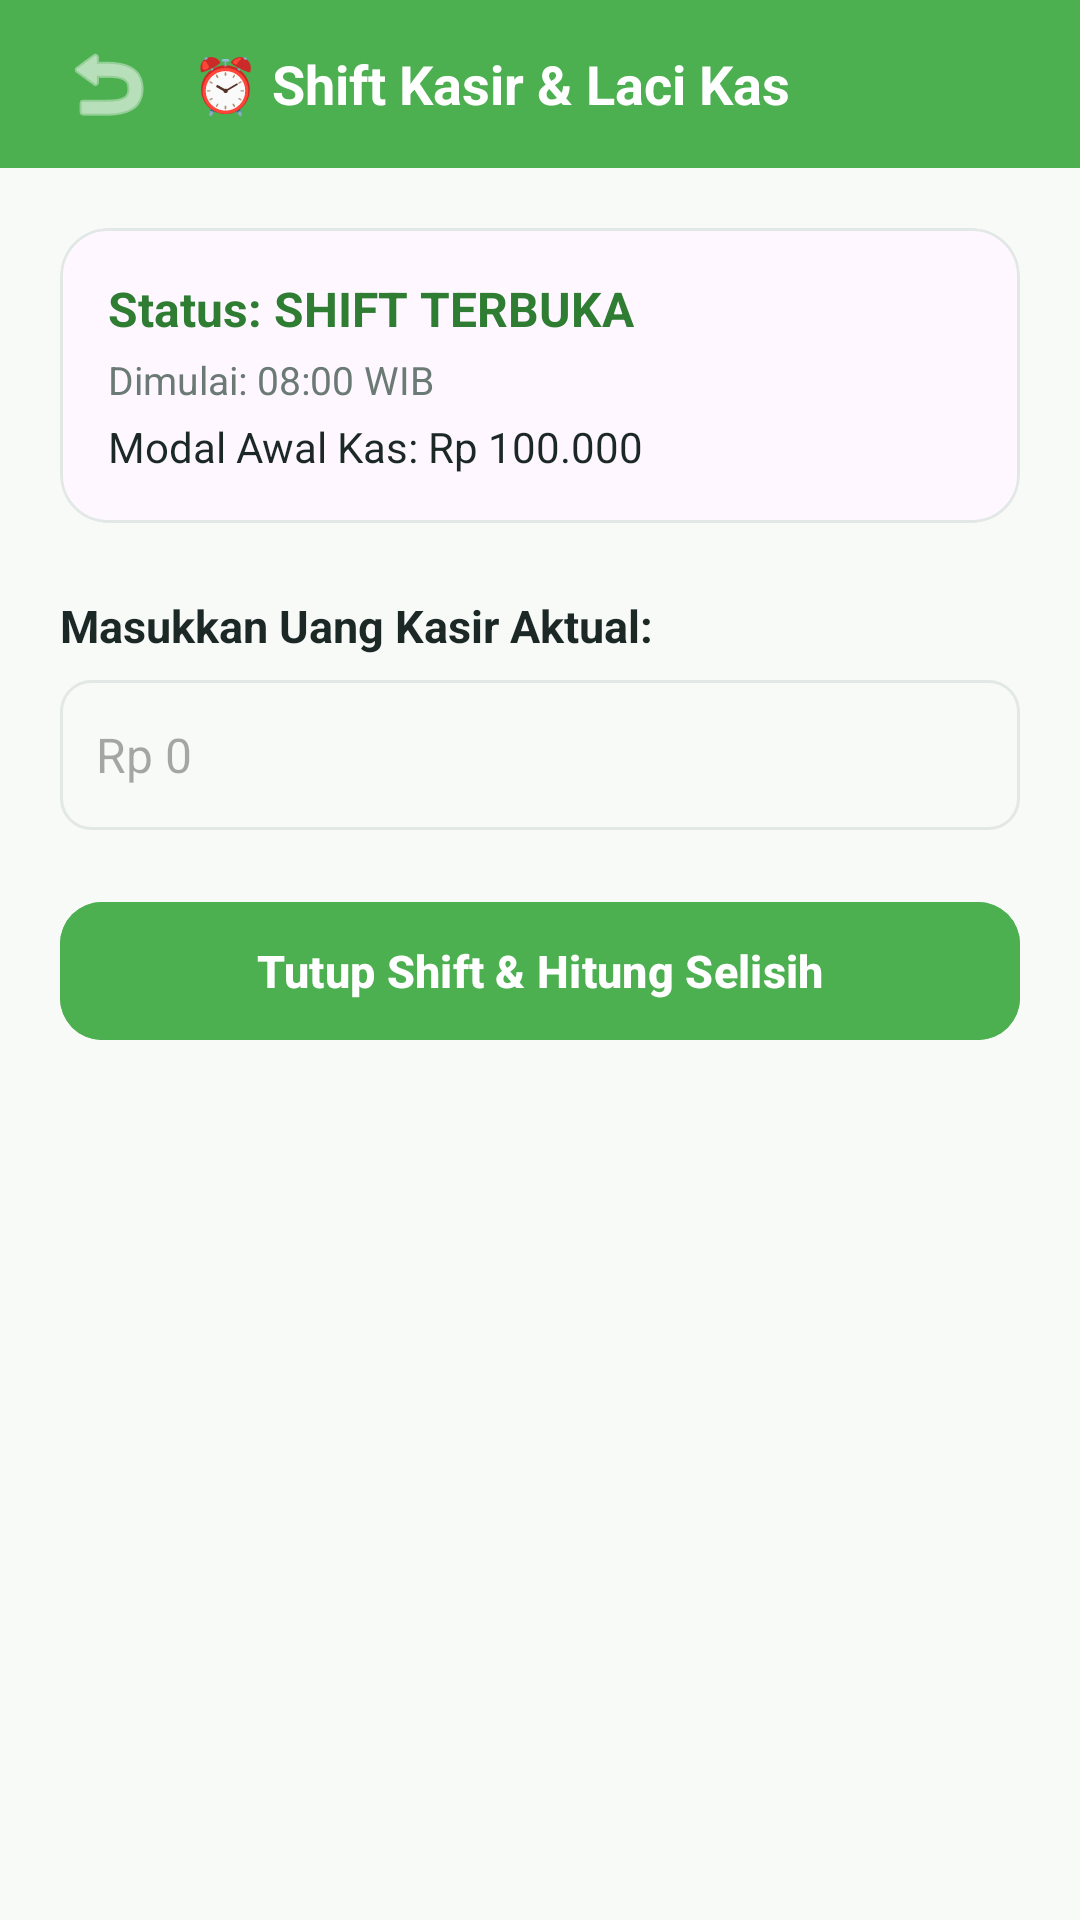

Screen size 1080w x 1920h. Icon name, then its box in pixels as box=[x1, y1, x2, y2]:
revert: box=[75, 53, 144, 116]
